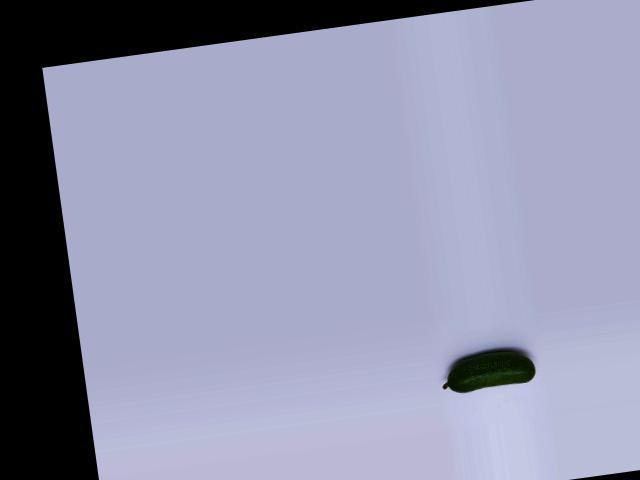cucumber: (439, 346, 537, 394)
